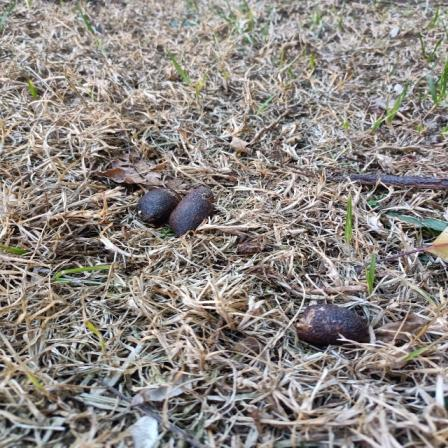dog-poop: (133, 180, 217, 232), (297, 297, 371, 349)
